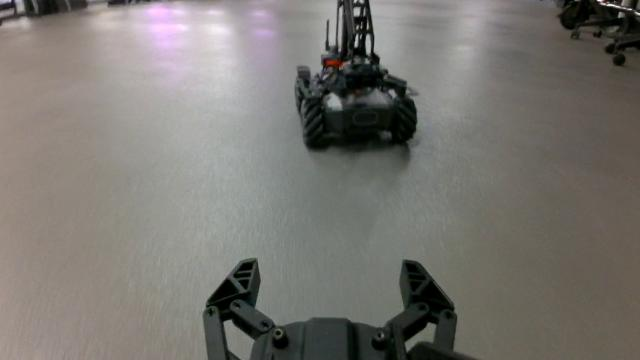robot: (294, 0, 419, 150)
